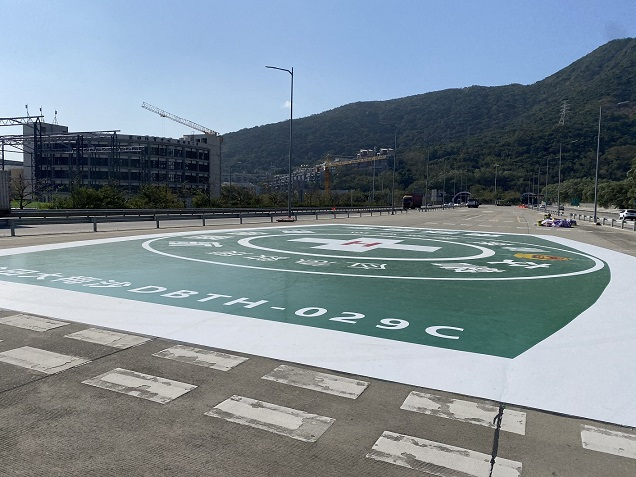H: (340, 240, 384, 247)
